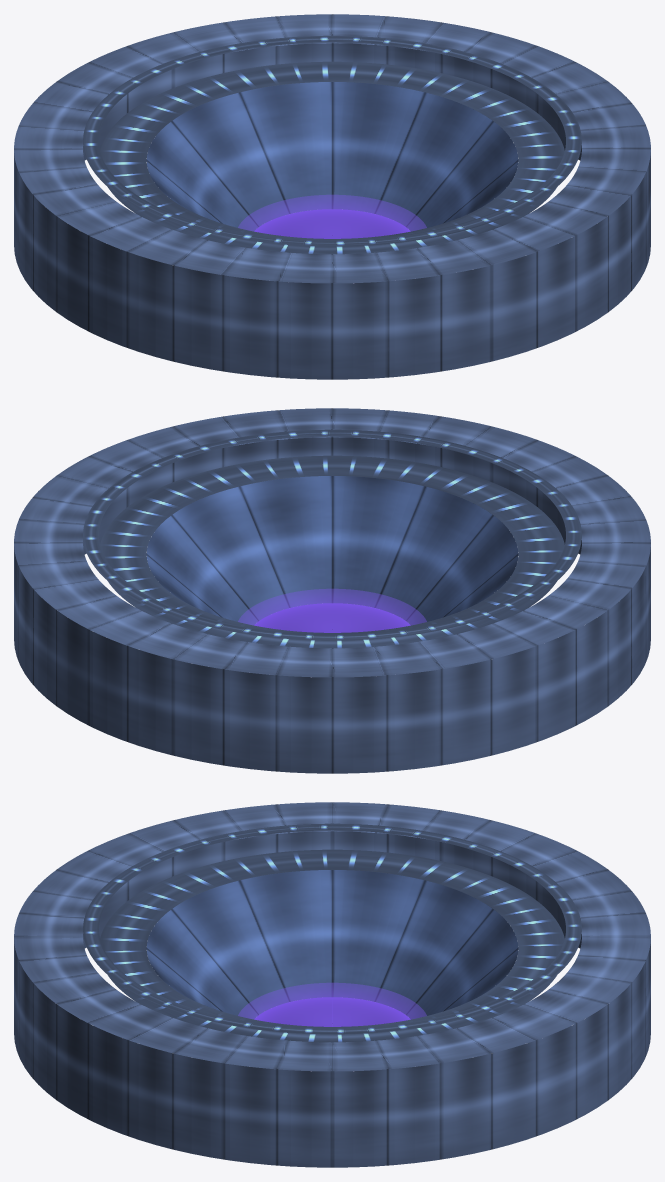
The model's file is vault.glb.
3 renders of one model, top to bottom at view 1: azimuth 30°, elevation 25°; view 2: azimuth 150°, elevation 25°; view 3: azimuth 270°, elevation 25°, orthographic.
Parts seen in each view (by area): view 1: Skirt, OuterDeck, Funnel, InnerRing, OuterRim, ShaftGlow, ShaftFloor; view 2: Skirt, OuterDeck, Funnel, InnerRing, OuterRim, ShaftGlow, ShaftFloor; view 3: Skirt, OuterDeck, Funnel, InnerRing, OuterRim, ShaftGlow, ShaftFloor.
Part boxes in pixels (x1=…): Skirt: x1=14, y1=43, x2=650, y2=379; OuterDeck: x1=14, y1=14, x2=650, y2=283; Funnel: x1=146, y1=82, x2=518, y2=238; InnerRing: x1=100, y1=61, x2=564, y2=254; OuterRim: x1=83, y1=35, x2=581, y2=246; ShaftGlow: x1=238, y1=195, x2=426, y2=238; ShaftFloor: x1=254, y1=209, x2=410, y2=237; Skirt: x1=14, y1=437, x2=650, y2=773; OuterDeck: x1=14, y1=408, x2=650, y2=677; Funnel: x1=146, y1=476, x2=518, y2=632; InnerRing: x1=100, y1=455, x2=564, y2=648; OuterRim: x1=83, y1=429, x2=581, y2=640; ShaftGlow: x1=238, y1=589, x2=426, y2=632; ShaftFloor: x1=254, y1=603, x2=410, y2=631; Skirt: x1=14, y1=831, x2=650, y2=1167; OuterDeck: x1=14, y1=802, x2=650, y2=1071; Funnel: x1=146, y1=870, x2=518, y2=1026; InnerRing: x1=100, y1=849, x2=564, y2=1042; OuterRim: x1=83, y1=823, x2=581, y2=1034; ShaftGlow: x1=238, y1=982, x2=426, y2=1026; ShaftFloor: x1=254, y1=997, x2=410, y2=1025.
Bounding box in the file's own units: 6 × 1.08 × 6.
Materials: 5 (5 with a texture image).
